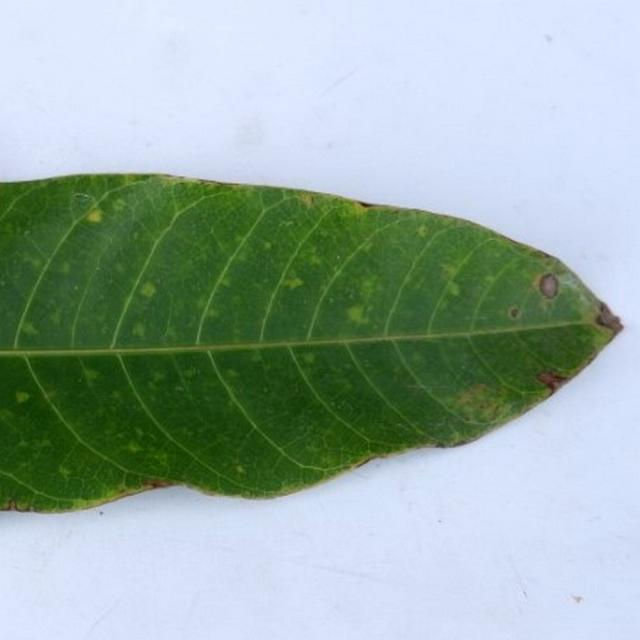Mango: (0, 175, 621, 511)
Powdery_Mildew: (450, 381, 506, 422), (132, 277, 170, 307), (341, 301, 371, 326), (538, 273, 559, 299), (22, 253, 43, 270), (358, 279, 375, 299), (282, 276, 304, 290), (138, 281, 156, 298), (20, 321, 39, 336), (297, 192, 314, 208), (446, 281, 462, 297), (86, 208, 102, 223), (442, 265, 459, 279), (131, 322, 145, 338), (83, 368, 100, 381), (34, 437, 52, 449), (182, 366, 198, 379), (126, 441, 143, 453), (15, 391, 30, 404), (49, 311, 62, 325), (204, 307, 219, 319), (165, 326, 178, 339), (196, 298, 209, 310), (58, 467, 71, 479), (113, 198, 126, 210), (0, 409, 13, 421), (58, 262, 70, 274), (302, 353, 315, 364), (417, 224, 428, 237), (152, 371, 165, 382), (309, 255, 322, 266), (484, 274, 497, 285), (225, 369, 239, 379), (219, 276, 231, 287), (202, 182, 218, 190), (509, 307, 519, 319), (115, 263, 125, 274), (250, 353, 262, 362), (235, 233, 245, 243), (158, 452, 168, 462), (309, 443, 319, 453), (235, 465, 245, 474), (263, 241, 272, 250), (135, 428, 144, 437), (112, 390, 121, 399), (333, 265, 340, 273)
